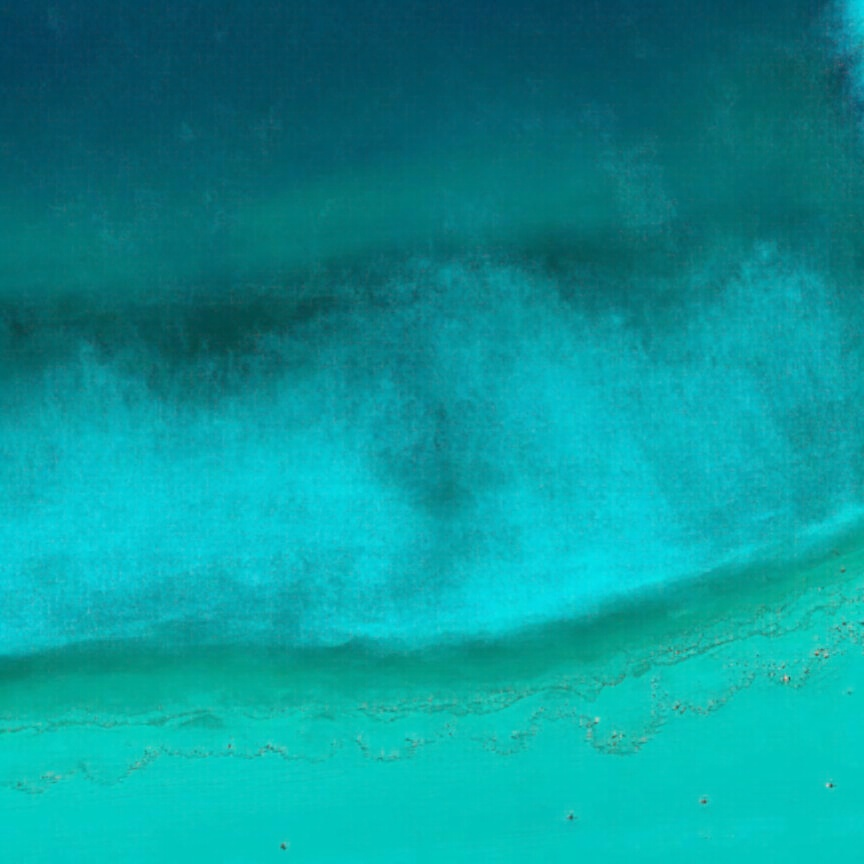rip_current: (265, 241, 525, 544)
